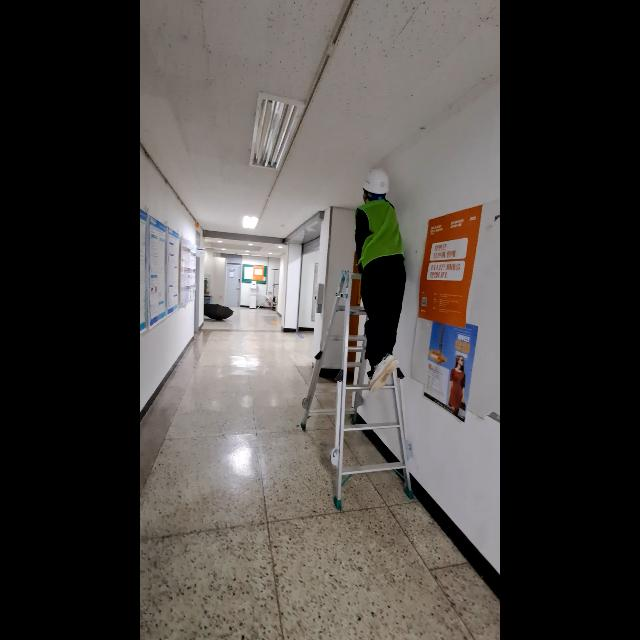hard hat: (296, 268, 419, 516)
vest: (346, 162, 410, 398)
